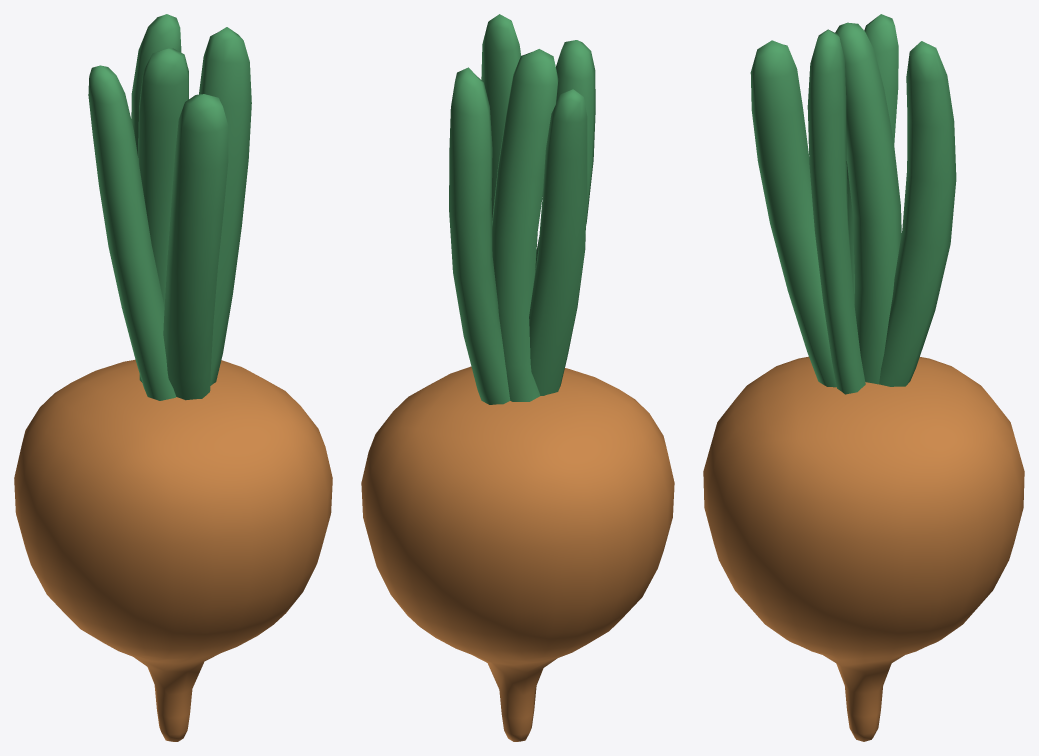
The model's file is Turnip_02.dae.
3 renders of one model, left to right at view 1: azimuth 30°, elevation 25°; view 2: azimuth 150°, elevation 25°; view 3: azimuth 270°, elevation 25°, orthographic. The views are drawn at different scales.
Visible parts, largest first — view 1: Turnip_02_LOD0; view 2: Turnip_02_LOD0; view 3: Turnip_02_LOD0.
Part boxes in pixels (x1,y1,x2,y2): Turnip_02_LOD0: (14, 14, 332, 741); Turnip_02_LOD0: (361, 14, 674, 741); Turnip_02_LOD0: (703, 14, 1024, 741).
Size of what is drawn, in the model's own units: 3.53 by 3.53 by 8.85.
